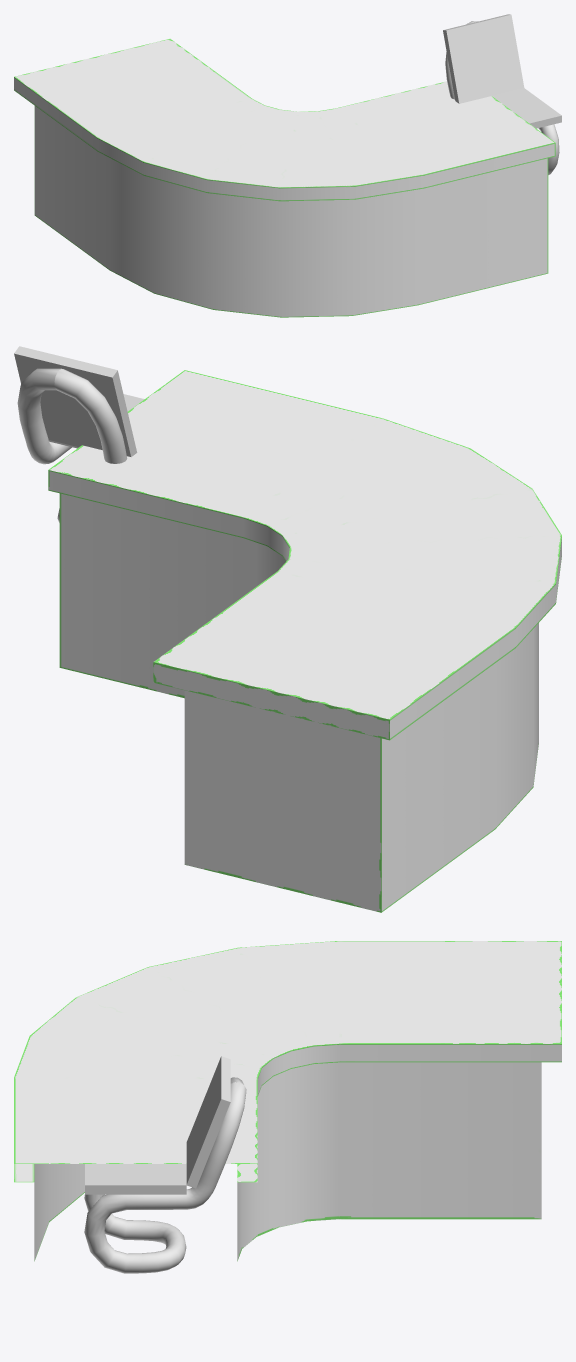
The model's file is counter.fbx.
3 views of the same model, one above another, from view 1: azimuth 30°, elevation 25°; view 2: azimuth 150°, elevation 25°; view 3: azimuth 270°, elevation 25° (orthographic). The views are drawn at different scales.
Visible parts, largest first — view 1: counter, Cube.001, Cube, BezierCurve; view 2: counter, Cube.001, BezierCurve; view 3: counter, BezierCurve, Cube, Cube.001.
Boxes of the visible parts, x1=… form: counter: x1=14, y1=38, x2=555, y2=317; Cube.001: x1=443, y1=14, x2=524, y2=103; Cube: x1=492, y1=88, x2=561, y2=128; BezierCurve: x1=445, y1=21, x2=559, y2=174; counter: x1=48, y1=370, x2=561, y2=912; Cube.001: x1=14, y1=346, x2=137, y2=456; BezierCurve: x1=17, y1=368, x2=127, y2=522; counter: x1=14, y1=941, x2=561, y2=1261; BezierCurve: x1=84, y1=1077, x2=246, y2=1273; Cube: x1=85, y1=1164, x2=186, y2=1194; Cube.001: x1=186, y1=1056, x2=230, y2=1188.
Bounding box in the file's own units: 571 × 294 × 540.
